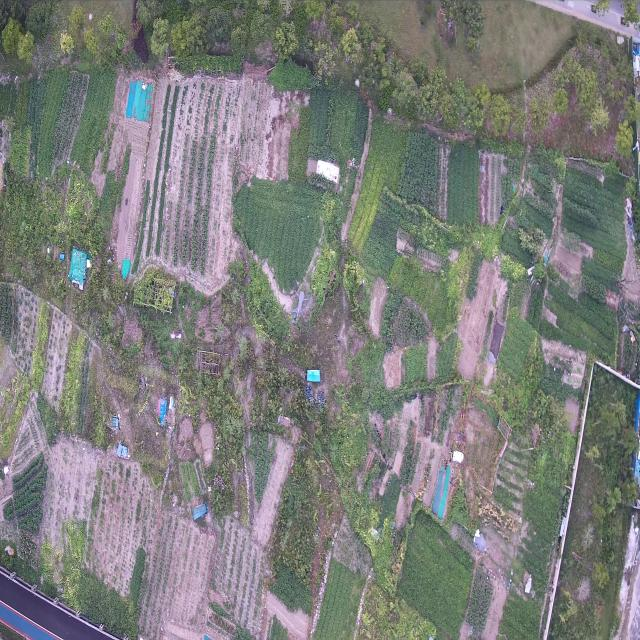UAV: (290, 284, 312, 322)
